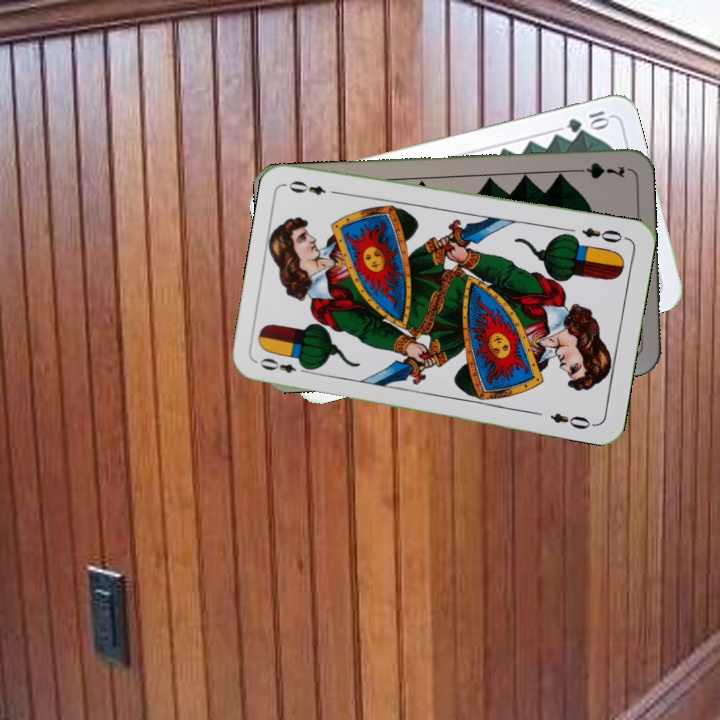EO: (255, 354, 313, 377), (578, 223, 625, 246)
G10: (563, 106, 612, 135)
G7: (568, 159, 627, 181)
